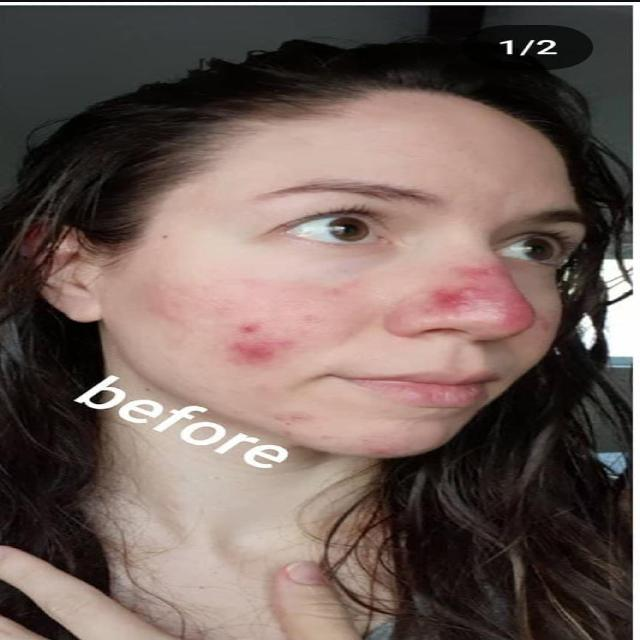Rosacea: (435, 266, 535, 328), (224, 321, 293, 371)
